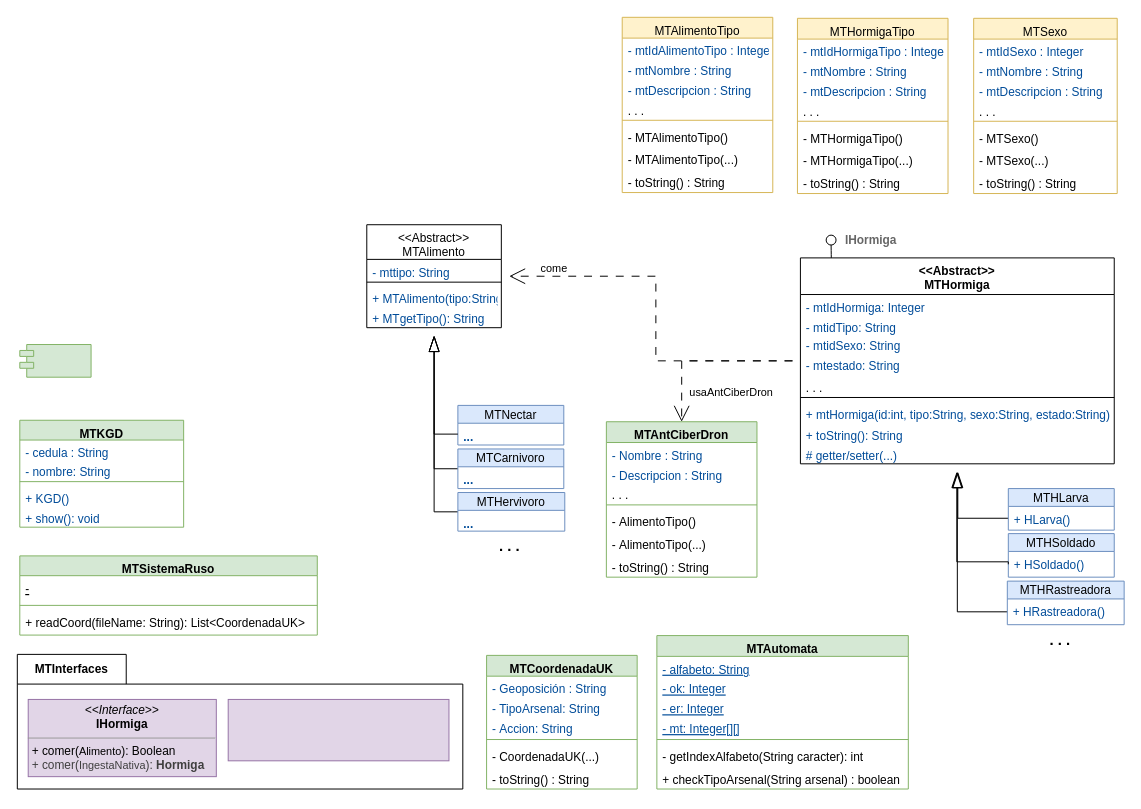
Some shapes in this 1141 by 809 pixel diagram are drawn without their labels. The shapes that lost their labels are listed below. From the top down, each one's centre as x and y in pixels, then its label:
At point (55, 360): "Utility".
At point (338, 729): "<<Interface>> IIA + buscar(tipoArsenal : String) : Boolean".
